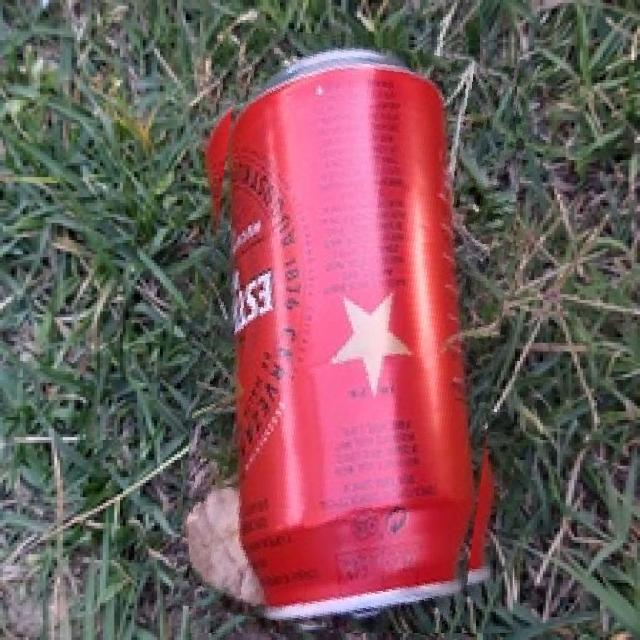recyclable: (189, 33, 517, 633)
